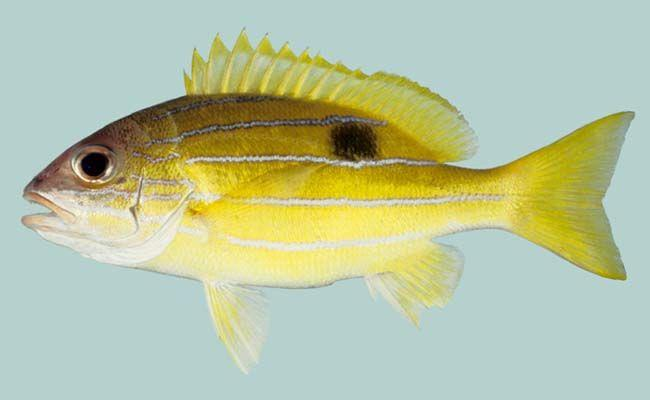fish: (22, 26, 633, 375)
